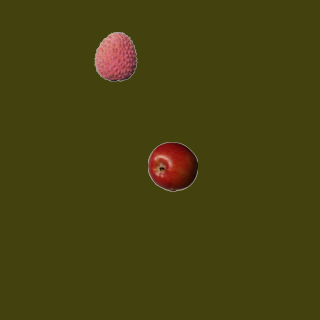Apple Braeburn: (147, 141, 197, 191)
Lychee: (90, 31, 140, 81)
